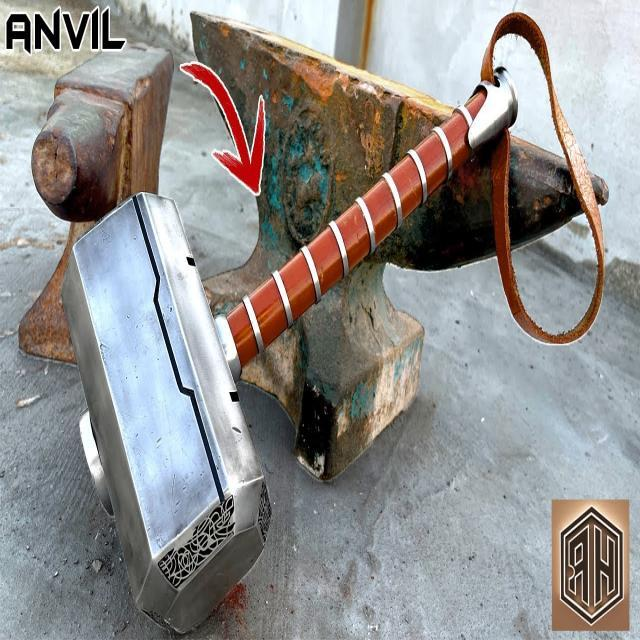hammer: (58, 59, 524, 635)
